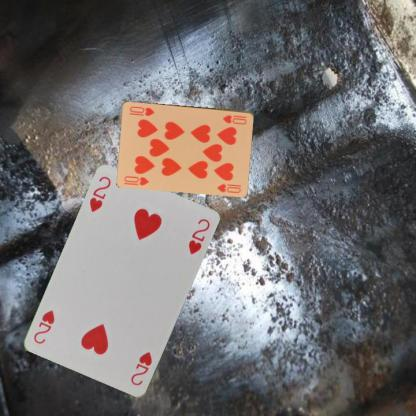10h: (220, 112, 249, 125), (122, 173, 150, 186)
2h: (86, 174, 112, 214), (128, 350, 154, 387)
